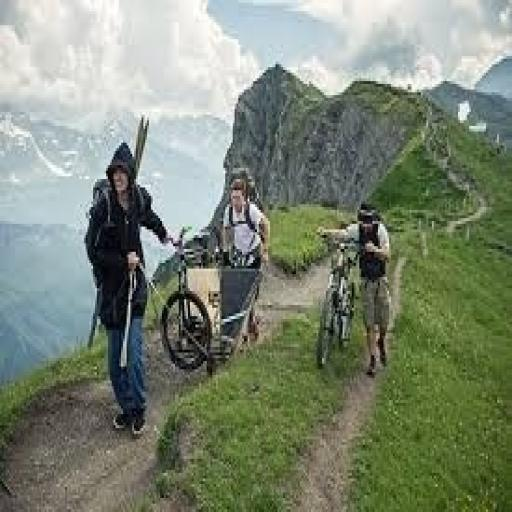cycling: (82, 140, 182, 439), (316, 198, 394, 380), (218, 168, 272, 347)
